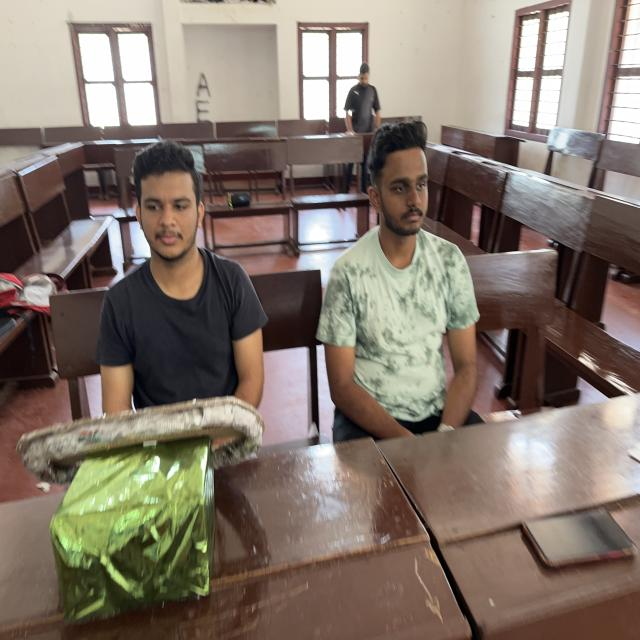Helmet: (100, 263, 270, 473), (322, 238, 480, 458)
